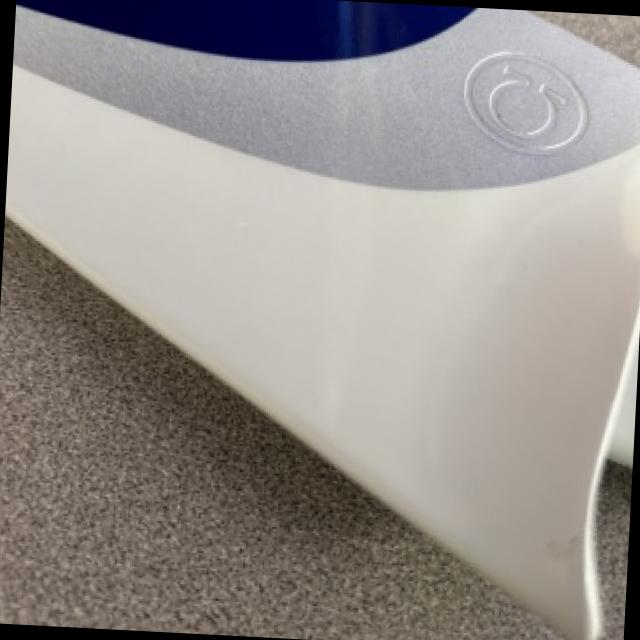healthy: (0, 404, 486, 636)
